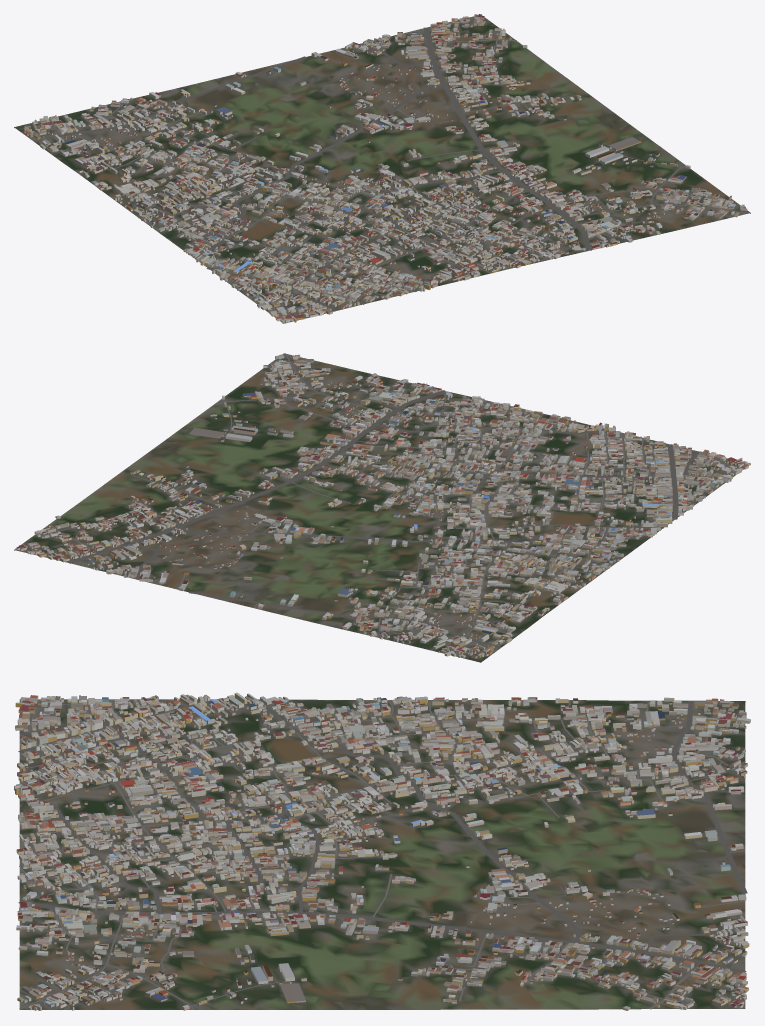
3 renders of one model, top to bottom at view 1: azimuth 30°, elevation 25°; view 2: azimuth 150°, elevation 25°; view 3: azimuth 270°, elevation 25°, orthographic. The views are drawn at different scales.
Visible parts, largest first — view 1: ground, buildings, roads; view 2: ground, buildings, roads; view 3: ground, buildings, roads.
Part boxes in pixels (x1=…): ground: x1=14, y1=16, x2=750, y2=323; buildings: x1=24, y1=14, x2=747, y2=323; roads: x1=33, y1=15, x2=749, y2=323; ground: x1=14, y1=353, x2=744, y2=662; buildings: x1=16, y1=354, x2=750, y2=658; roads: x1=15, y1=353, x2=743, y2=650; ground: x1=19, y1=699, x2=745, y2=1009; buildings: x1=14, y1=692, x2=750, y2=1010; roads: x1=18, y1=698, x2=747, y2=1009.
Size of the model in its own units: 1415 by 28.38 by 1422.
